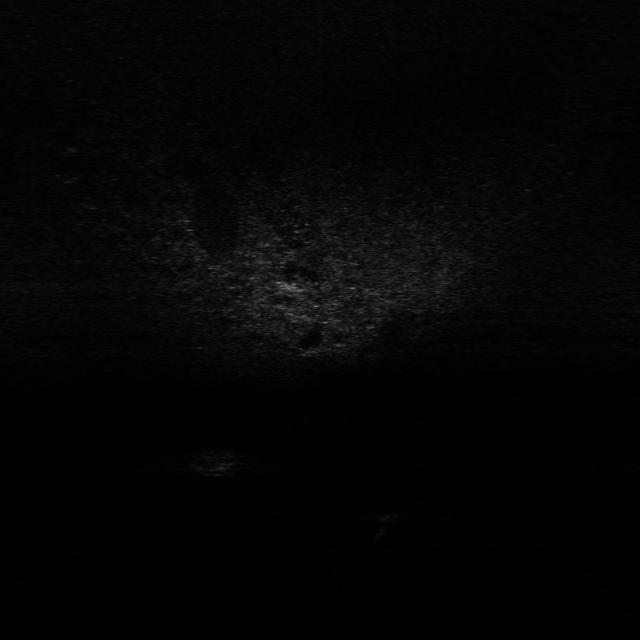circle cage: (187, 448, 253, 478)
cylinder: (372, 511, 397, 543)
